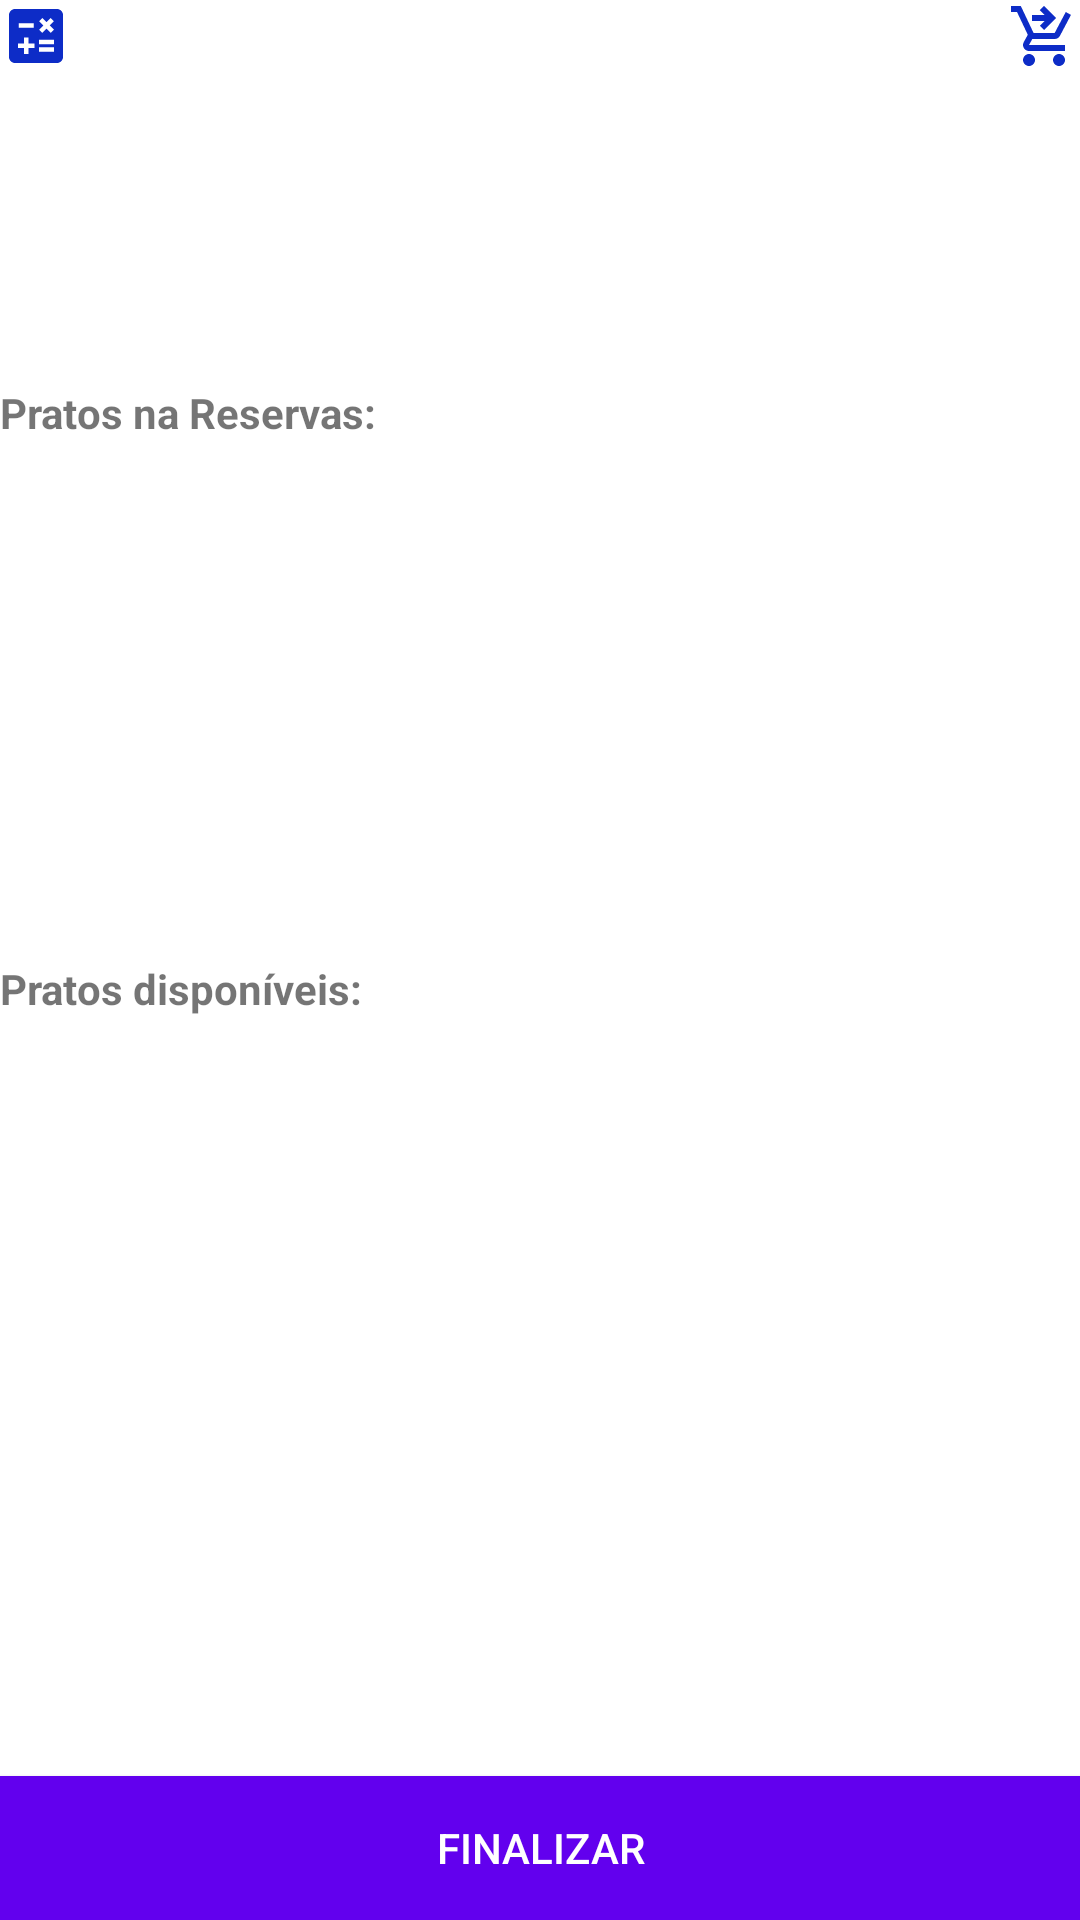

Screen size 1080 x 1920. Icon name, then its box in pixels as (x1, y1, x2, y2):
calculate: (9, 9, 63, 63)
